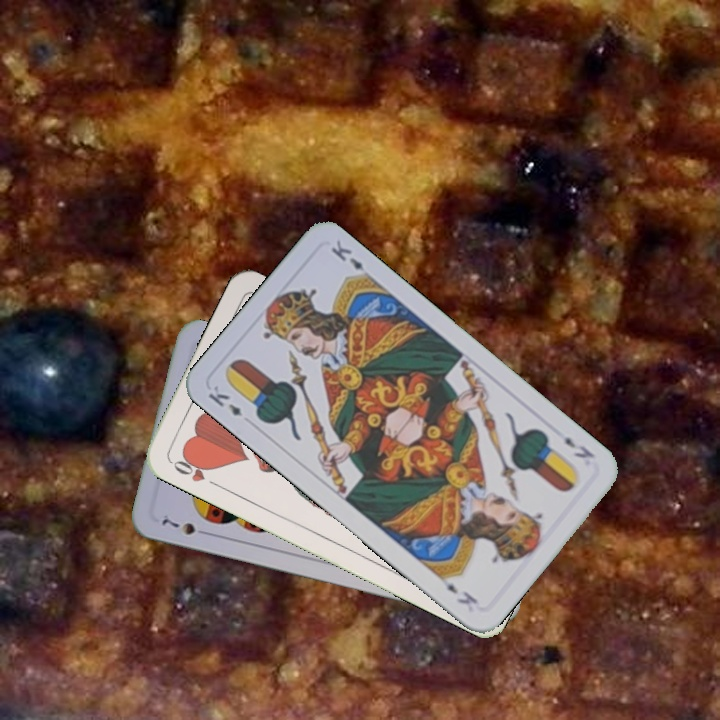EK: (204, 381, 245, 419), (560, 432, 598, 461)
HO: (167, 451, 222, 490)
S7: (157, 514, 213, 538)
